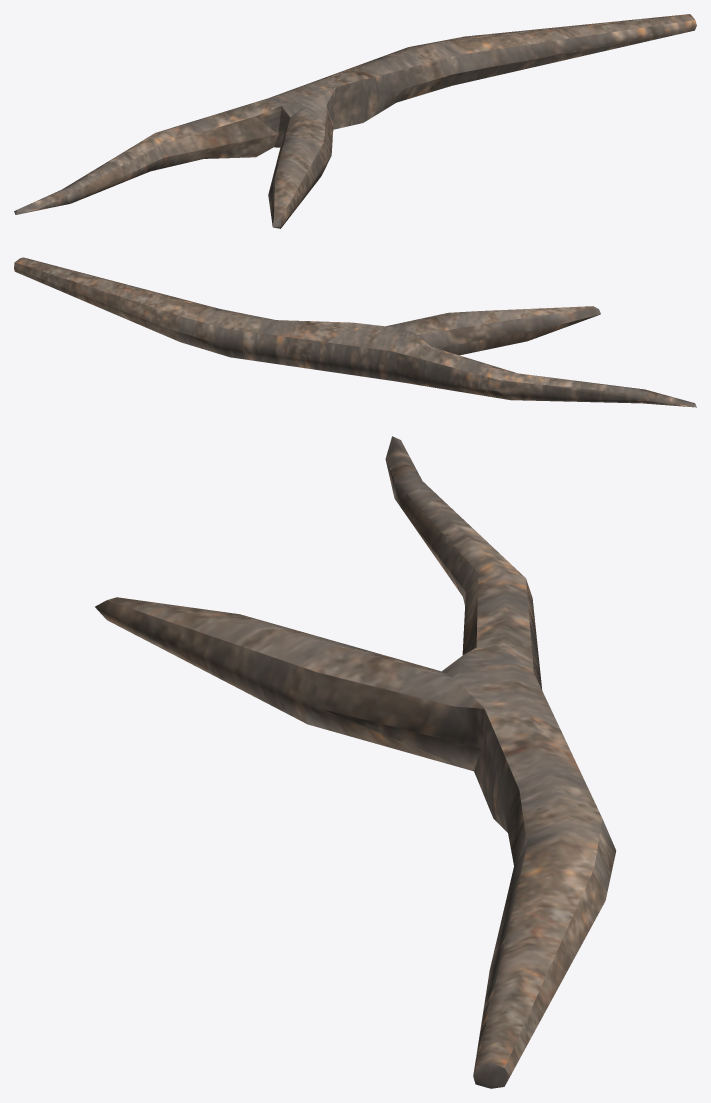
Rendered from Branch 2.fbx.
The picture shows the model from 3 angles, top to bottom: view 1: azimuth 30°, elevation 25°; view 2: azimuth 150°, elevation 25°; view 3: azimuth 270°, elevation 25°; orthographic projection. The views are drawn at different scales.
Parts seen in each view (by area): view 1: Plane.001; view 2: Plane.001; view 3: Plane.001.
Boxes of the visible parts, x1,y1,x2,y2 form: Plane.001: (14, 14, 696, 228); Plane.001: (14, 257, 696, 407); Plane.001: (95, 436, 616, 1088).
Bounding box in the file's own units: 591 × 36.73 × 204.
